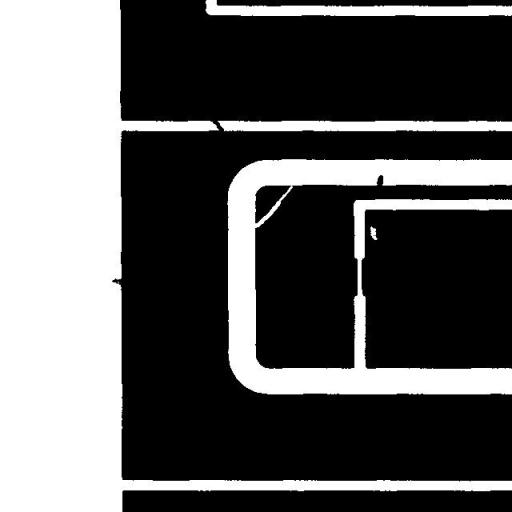open: (246, 178, 300, 235)
pin-hole: (362, 218, 385, 248)
short: (200, 109, 231, 140)
spur: (104, 270, 133, 292), (369, 167, 390, 197)
